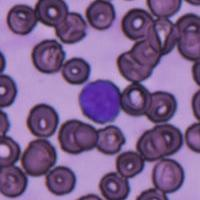L: (78, 78, 121, 124)
